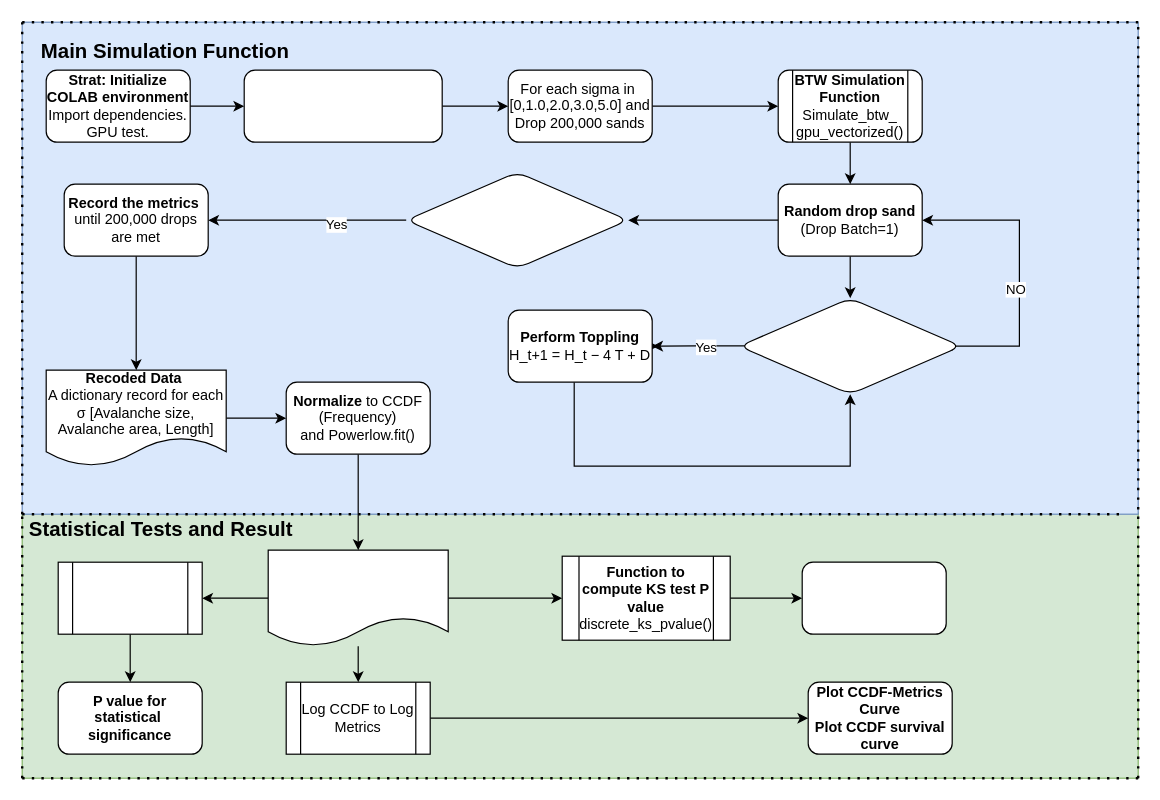
Some shapes in this 1160 by 800 pixel diagram are drawn without their labels. Each missing label, with the centre of its shape:
"ANOVA" goes at (129,597).
"If number of drops> burn_in (Indicate a SOC in system)" goes at (516,219).
"Initiate Parameters Kernal K, Grid size L, n_drops, burn_in, sigma_list" goes at (342,105).
"Normalized Data CCDF for each metrics Fitted exponent Ds" goes at (357,597).
"Print K-S test result" goes at (873,597).
"While there's any toppling (h>=4) in the matrix" goes at (849,345).
